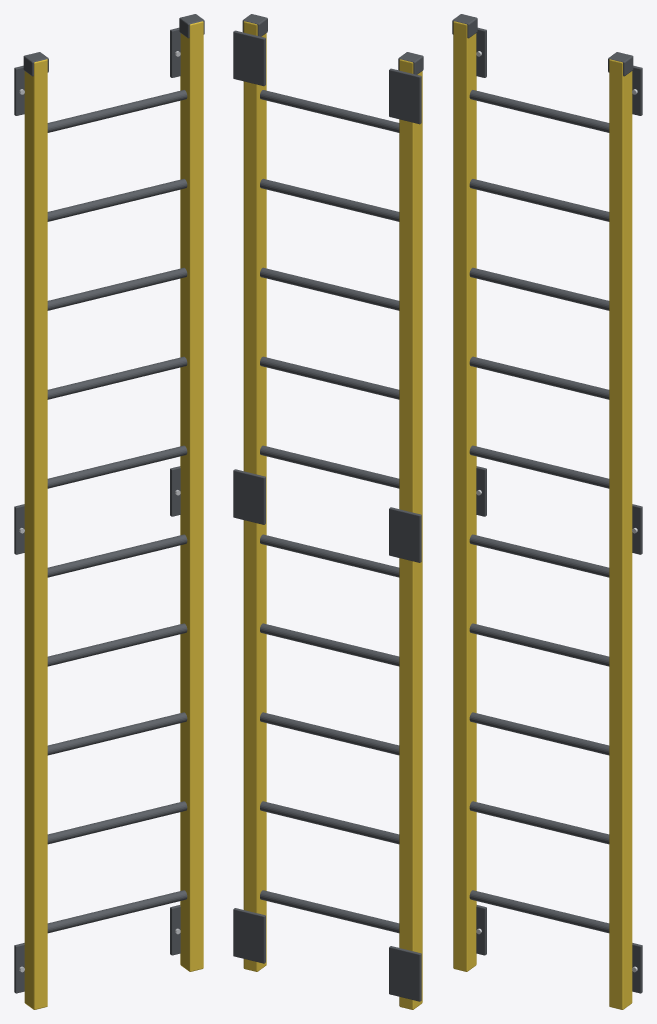
The model's file is WallLadder.fbx.
The picture shows the model from 3 angles, left to right: view 1: azimuth 30°, elevation 25°; view 2: azimuth 150°, elevation 25°; view 3: azimuth 330°, elevation 25°; orthographic projection.
Parts seen in each view (by area): view 1: WallLadder; view 2: WallLadder; view 3: WallLadder.
Part boxes in pixels (box(x1,y1,x2,y2)): WallLadder: box(14, 14, 204, 1009); WallLadder: box(233, 14, 423, 1009); WallLadder: box(452, 14, 642, 1009).
Bounding box in the file's own units: 0.66 × 3.2 × 0.07.
